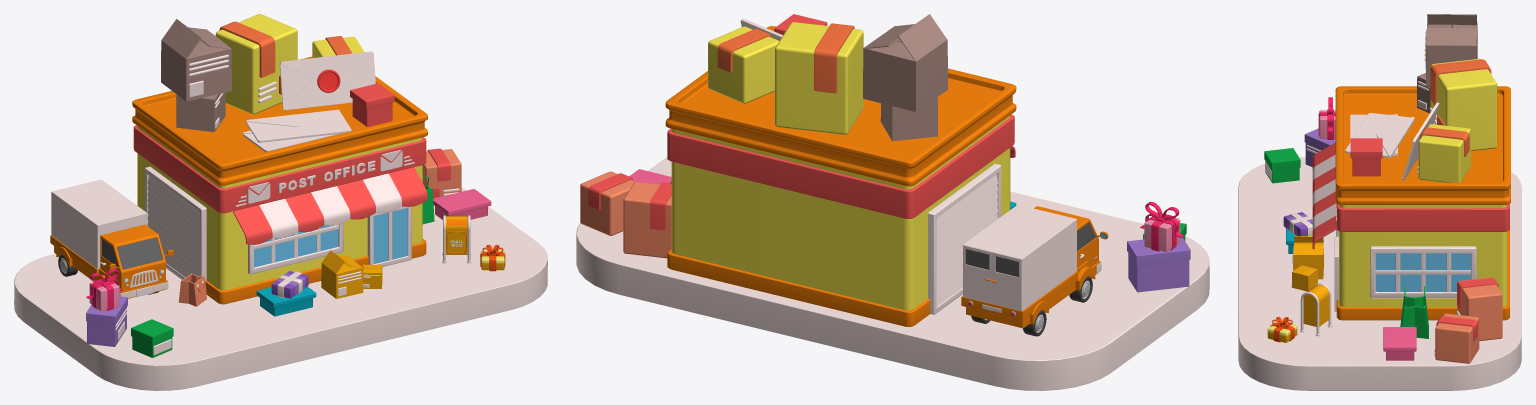
The model's file is Public_Island_6.glb.
3 renders of one model, left to right at view 1: azimuth 30°, elevation 25°; view 2: azimuth 150°, elevation 25°; view 3: azimuth 270°, elevation 25°, orthographic. The views are drawn at different scales.
Parts seen in each view (by area): view 1: Public_6_Post_Office_1, Public_6_Base_1, Public_6_Truck_1, Public_6_Box_4, Public_6_Box_2, Public_6_Letter_3, Public_6_Letter_1, Public_6_Box_10, Public_6_Box_11, Public_6_Box_1, Public_6_Box_5, Public_6_Box_9 (+11 smaller); view 2: Public_6_Post_Office_1, Public_6_Base_1, Public_6_Truck_1, Public_6_Box_4, Public_6_Box_2, Public_6_Box_3, Public_6_Box_12, Public_6_Box_9, Public_6_Box_10, Public_6_Box_1, Public_6_Present_1; view 3: Public_6_Post_Office_1, Public_6_Base_1, Public_6_Box_4, Public_6_Box_3, Public_6_Box_2, Public_6_Box_12, Public_6_Box_10, Public_6_Letter_1, Public_6_Mail_Box_1, Public_6_Box_5, Public_6_Box_8, Public_6_Box_6 (+10 smaller).
Part boxes in pixels (x1,y1,x2,y2): Public_6_Post_Office_1: (132,56,427,304); Public_6_Base_1: (14,187,547,390); Public_6_Truck_1: (50,179,173,298); Public_6_Box_4: (215,14,297,114); Public_6_Box_2: (161,19,231,101); Public_6_Letter_3: (279,51,375,110); Public_6_Letter_1: (246,109,351,142); Public_6_Box_10: (422,148,461,198); Public_6_Box_11: (321,250,363,298); Public_6_Box_1: (176,92,225,132); Public_6_Box_5: (350,83,394,126); Public_6_Box_9: (86,296,127,346); Public_6_Post_Office_1: (665,26,1016,326); Public_6_Base_1: (576,157,1209,390); Public_6_Truck_1: (961,204,1108,336); Public_6_Box_4: (775,22,863,134); Public_6_Box_2: (863,14,947,111); Public_6_Box_3: (708,26,779,103); Public_6_Box_12: (623,181,671,258); Public_6_Box_9: (1127,237,1190,292); Public_6_Box_10: (580,171,635,235); Public_6_Box_1: (880,97,937,141); Public_6_Present_1: (1140,202,1183,252); Public_6_Post_Office_1: (1312,86,1510,320); Public_6_Base_1: (1238,157,1521,390); Public_6_Box_4: (1429,58,1497,150); Public_6_Box_3: (1417,124,1470,182); Public_6_Box_2: (1424,14,1477,86); Public_6_Box_12: (1456,277,1502,340); Public_6_Box_10: (1434,313,1479,363); Public_6_Letter_1: (1345,113,1414,157); Public_6_Mail_Box_1: (1300,283,1332,336); Public_6_Box_5: (1350,138,1382,176); Public_6_Box_8: (1264,148,1300,183); Public_6_Box_6: (1383,327,1416,360).
Bounding box in the file's own units: 21.98 × 12 × 12.5.
25 materials, 25 textured.
